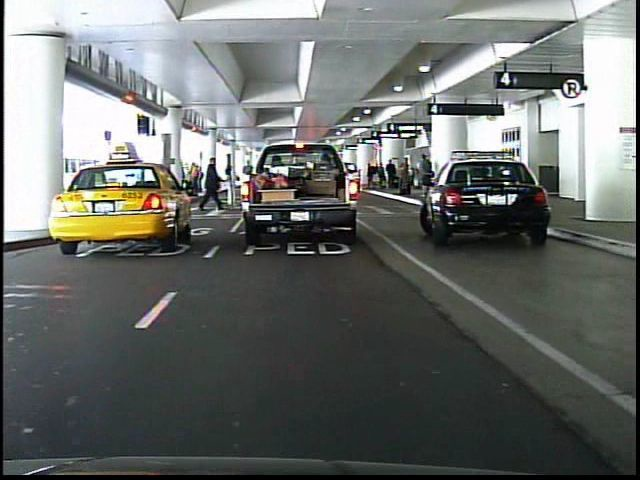person: (196, 154, 225, 214), (266, 146, 289, 202)
